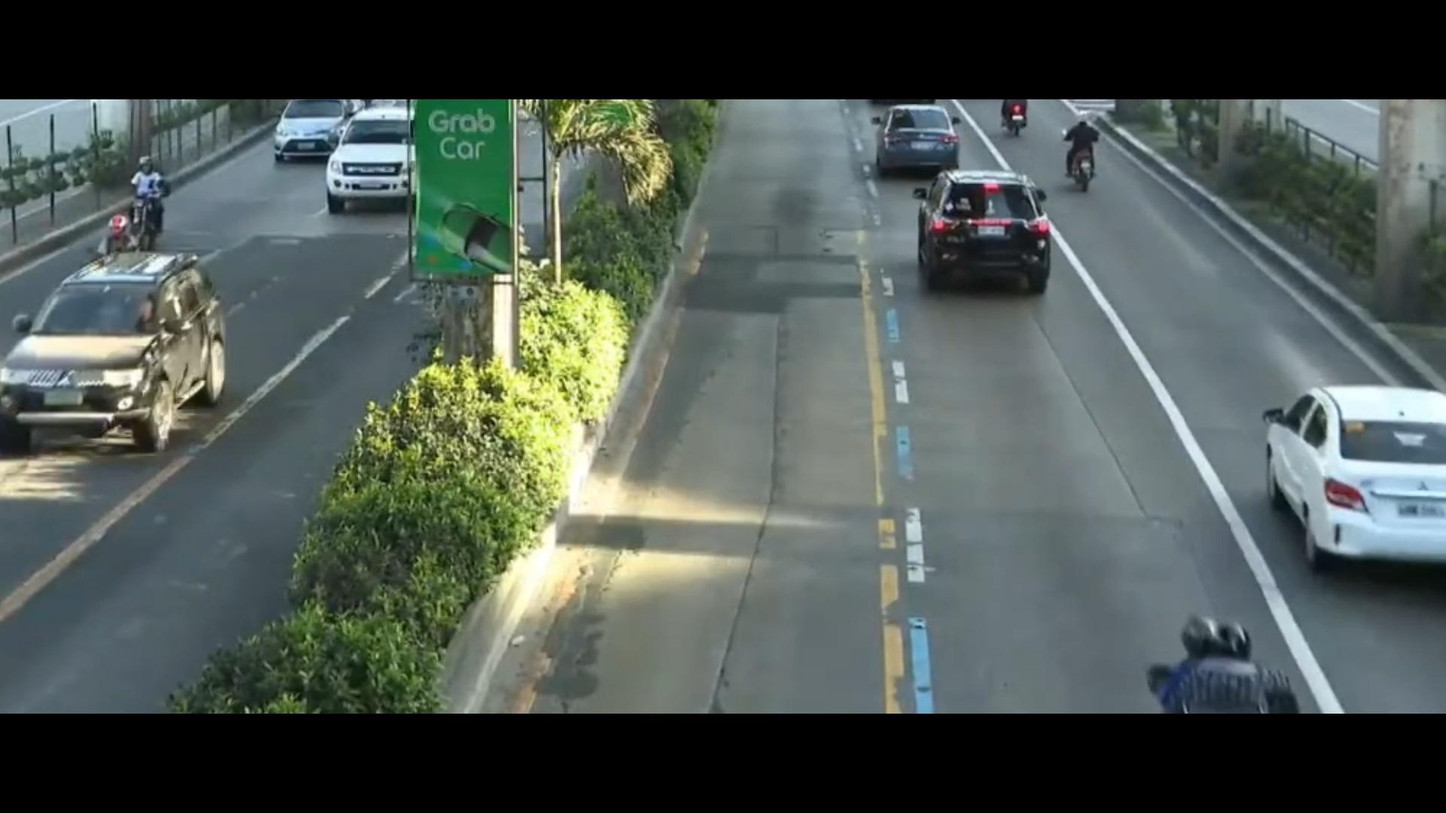Motorcycle: (1158, 571, 1306, 721), (132, 145, 209, 251), (1053, 111, 1134, 209), (72, 213, 138, 269), (994, 93, 1045, 141)
SUV: (0, 247, 249, 468), (890, 151, 1083, 307), (315, 113, 419, 222)
Sedan: (1215, 365, 1446, 561), (870, 100, 968, 173), (262, 102, 364, 160)
